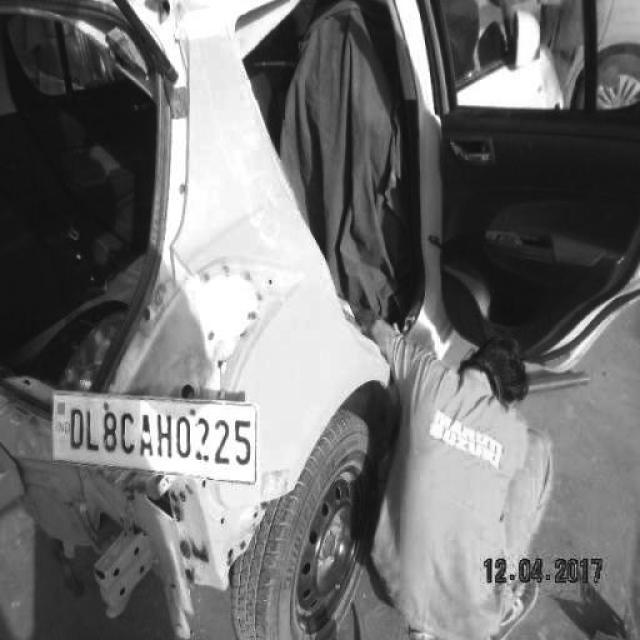car damage: (0, 255, 300, 640)
